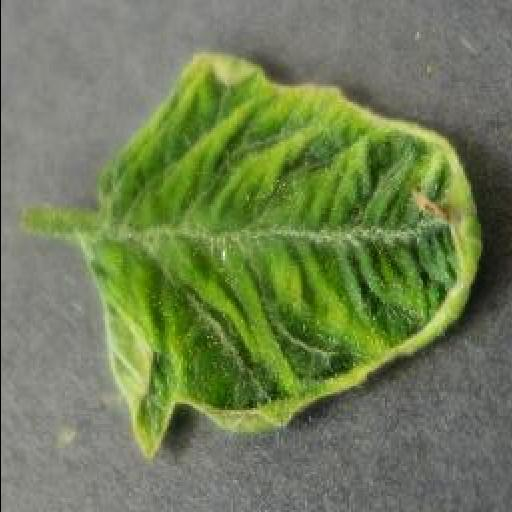disease_tomato: (83, 48, 481, 462)
